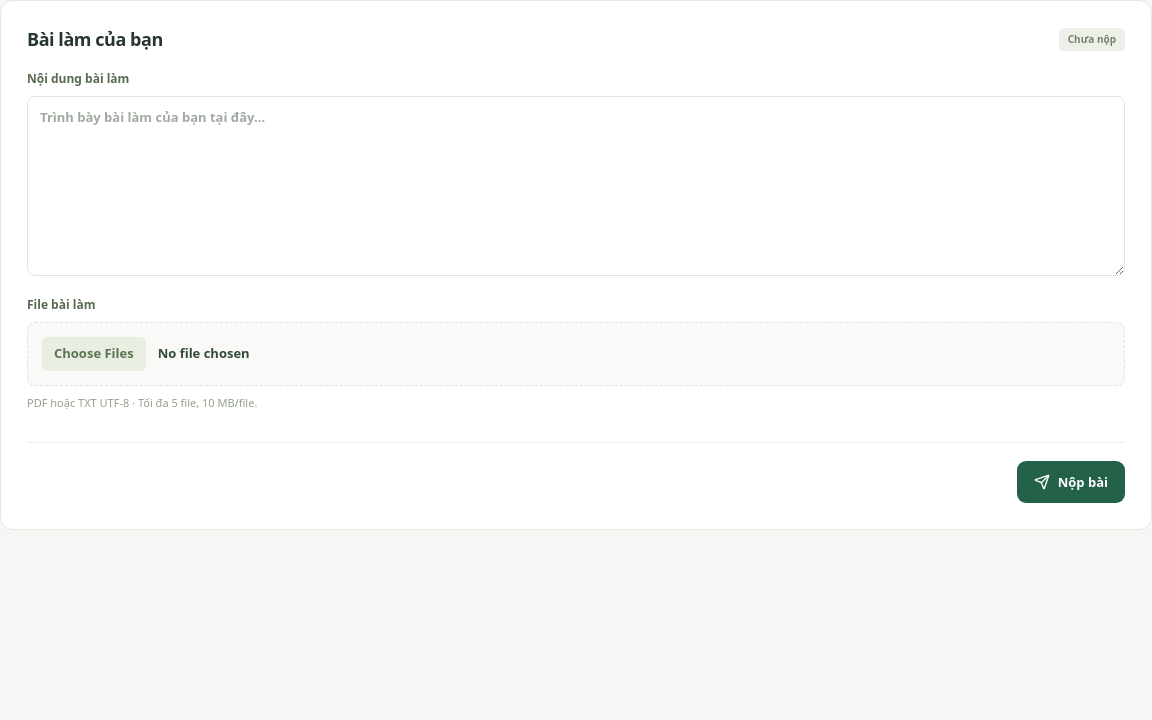
submits an answer and renders the persisted server response
This screenshot has width=1152, height=720.
Type "Bài làm React của tôi." into the text box labelled "Nội dung bài làm" at (576, 186), box [27,96,1125,276]
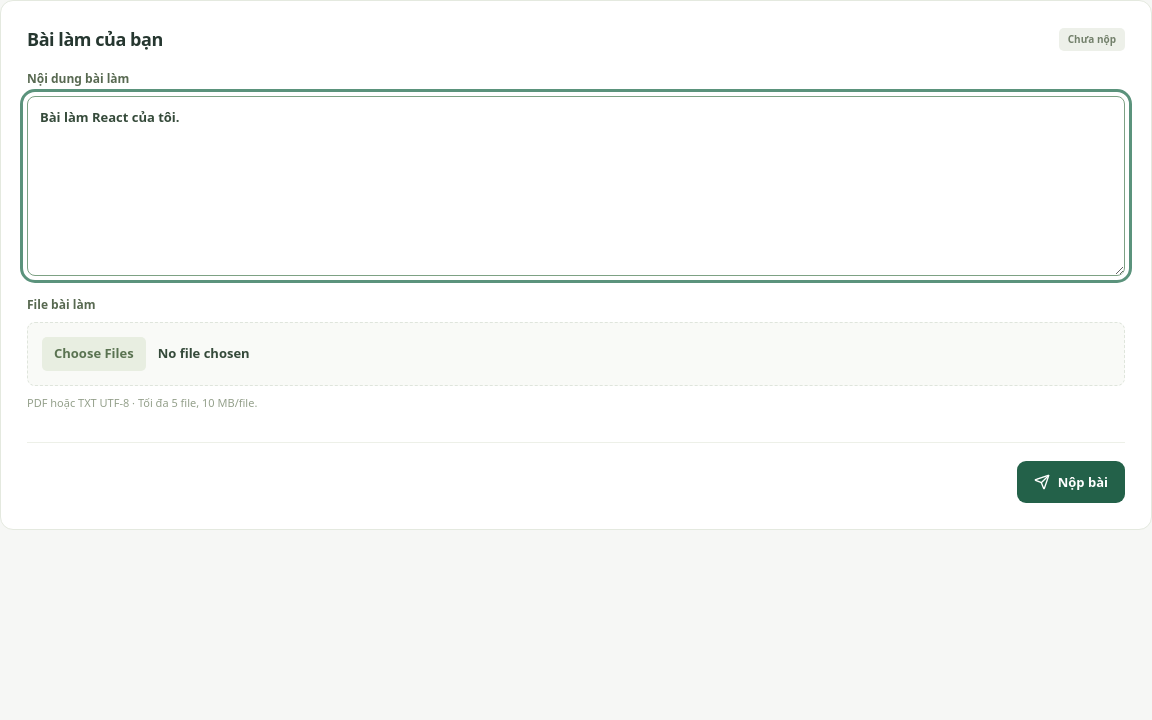
Click the button "Nộp bài" at (1071, 482), box [1017,461,1125,503]
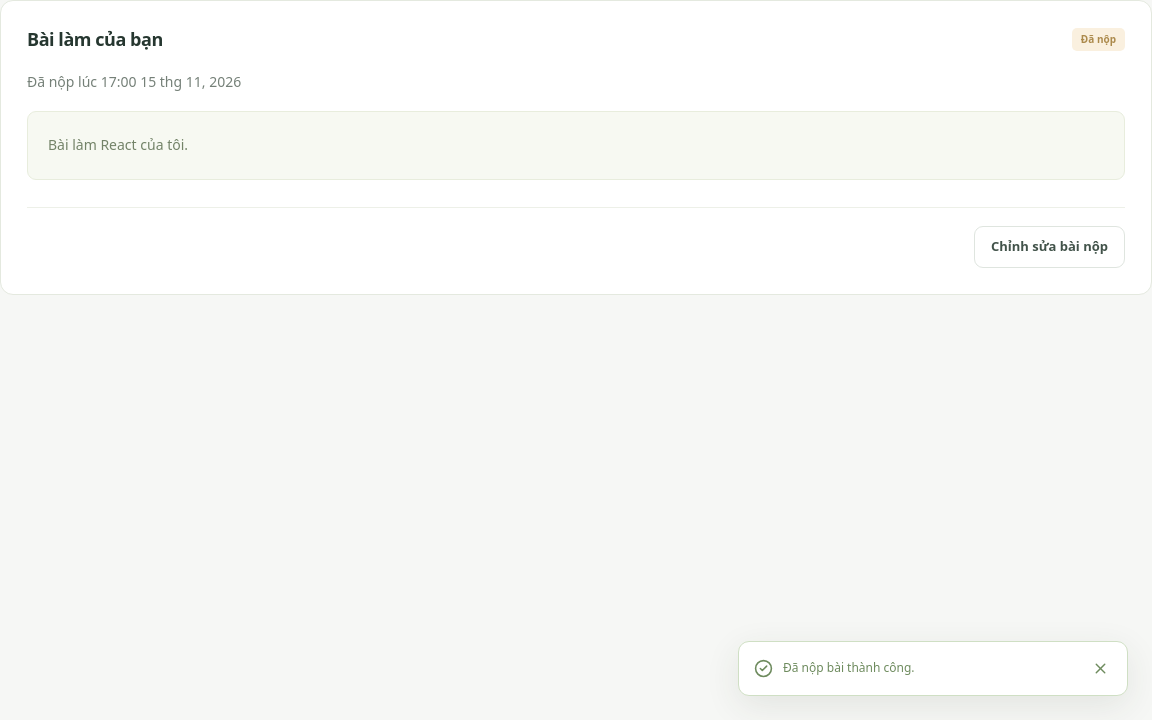
Expected: the text "Đã nộp" is shown, [1072,28,1125,51]
